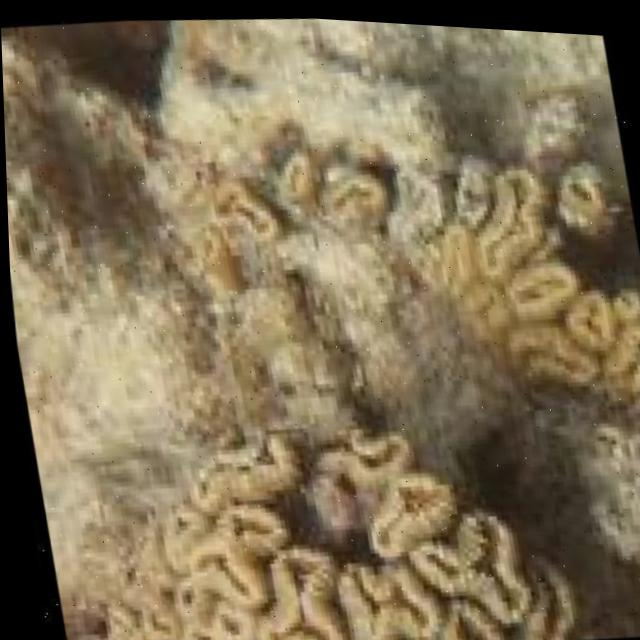Healthy Coral: (98, 384, 572, 640), (397, 94, 640, 414), (179, 114, 404, 255)
